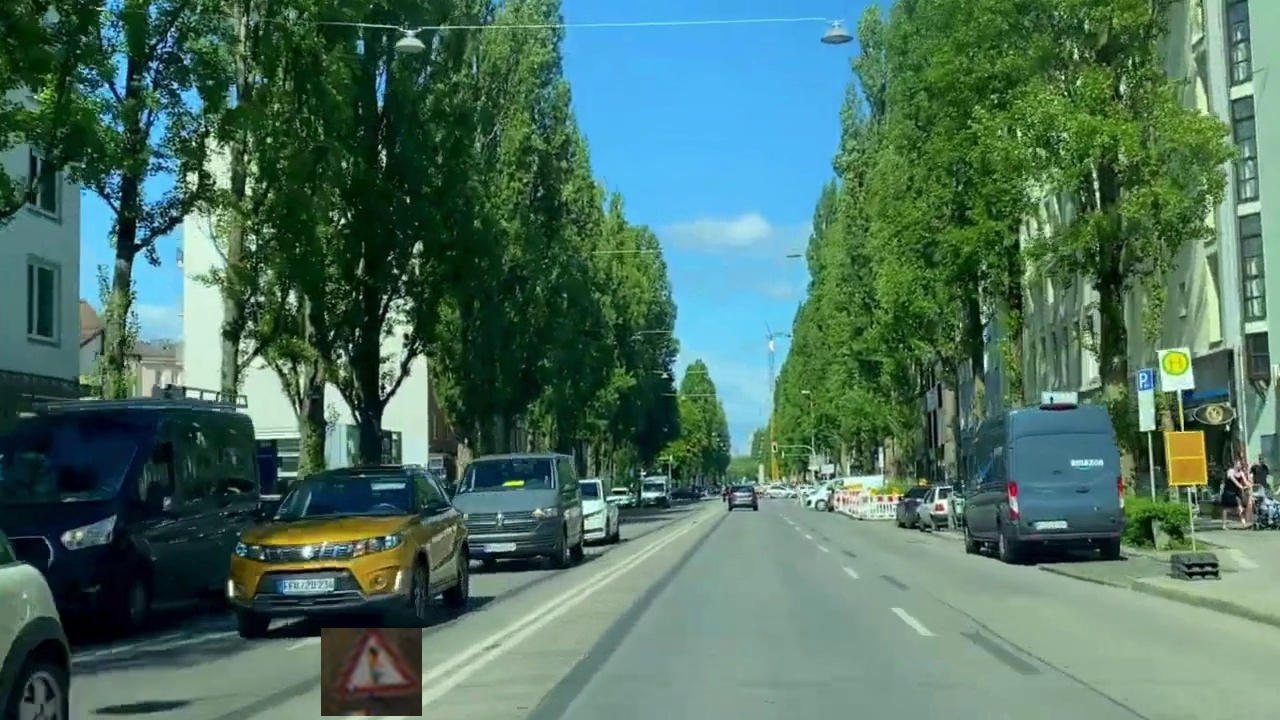Signals: (321, 628, 422, 716)
